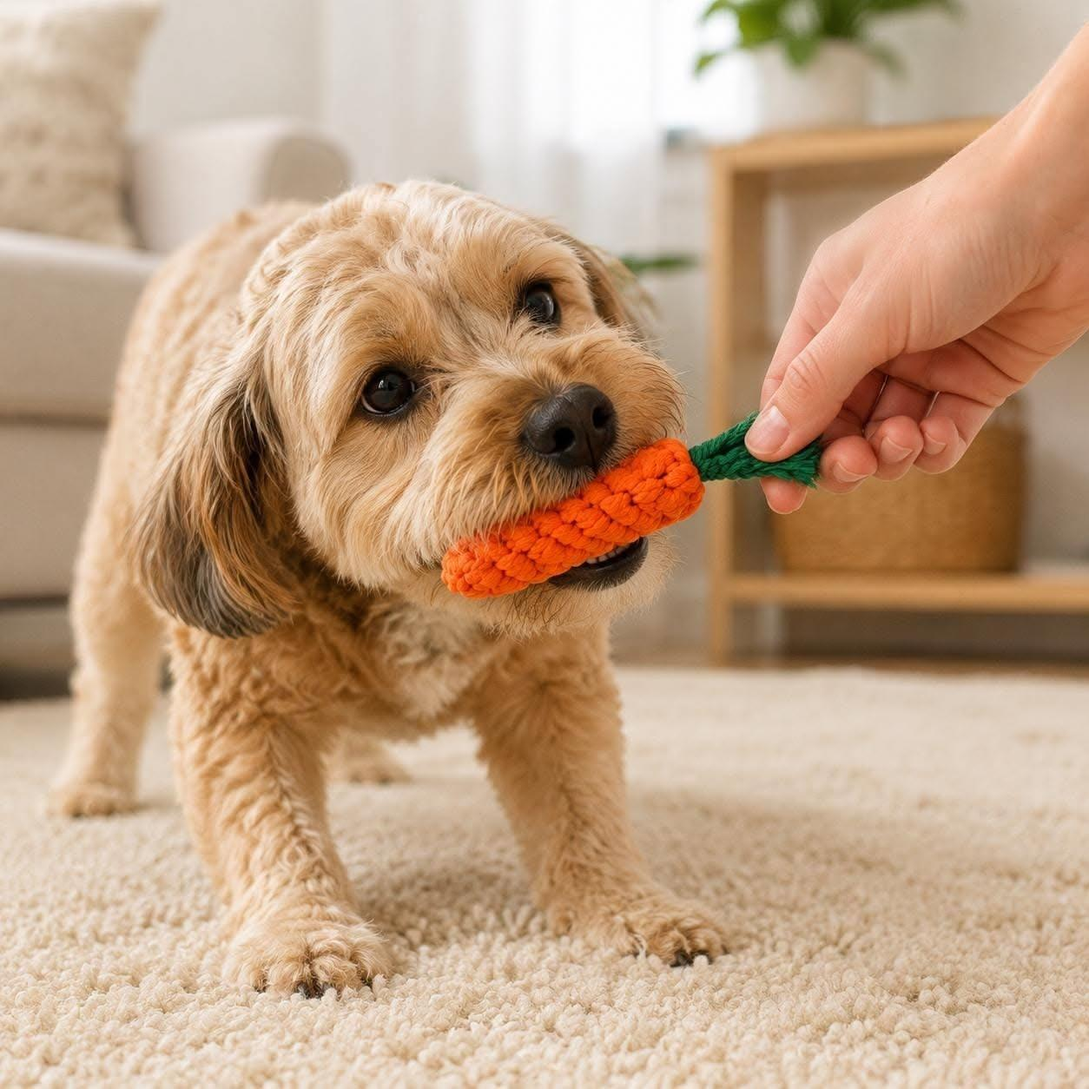adult_dog: (49, 175, 731, 1000)
non-dog: (743, 16, 1089, 515)
